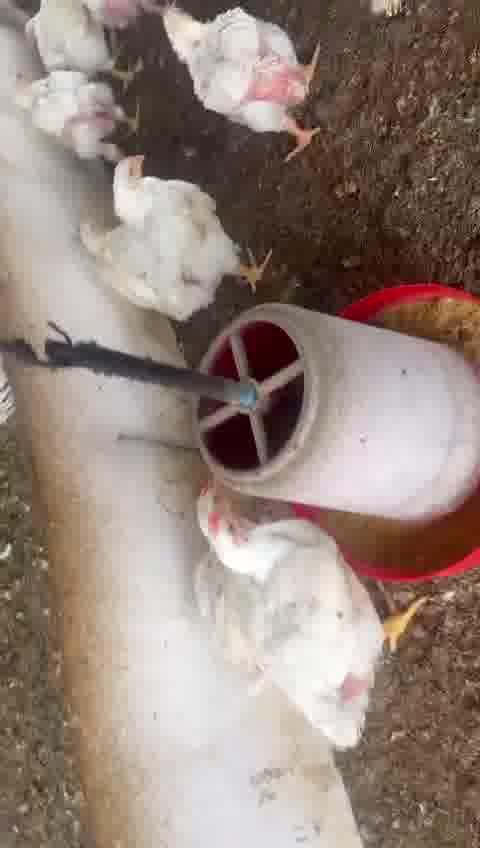AbNormal: (4, 64, 141, 153), (68, 213, 145, 311)
Normal: (202, 474, 436, 731), (152, 0, 340, 160), (186, 559, 273, 693)
